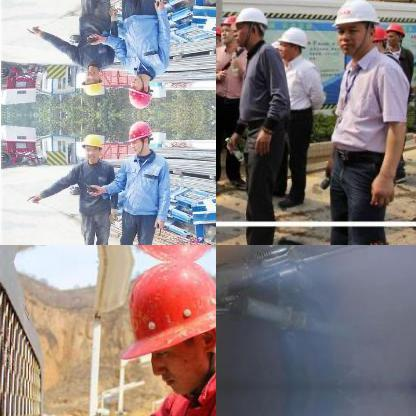Helmet: (109, 261, 215, 396), (332, 0, 377, 55), (233, 4, 266, 46), (275, 25, 308, 57), (127, 74, 153, 108), (127, 119, 153, 152), (78, 130, 104, 160), (78, 66, 104, 96), (218, 14, 238, 44), (384, 20, 405, 46), (370, 22, 388, 50), (216, 23, 222, 45)
